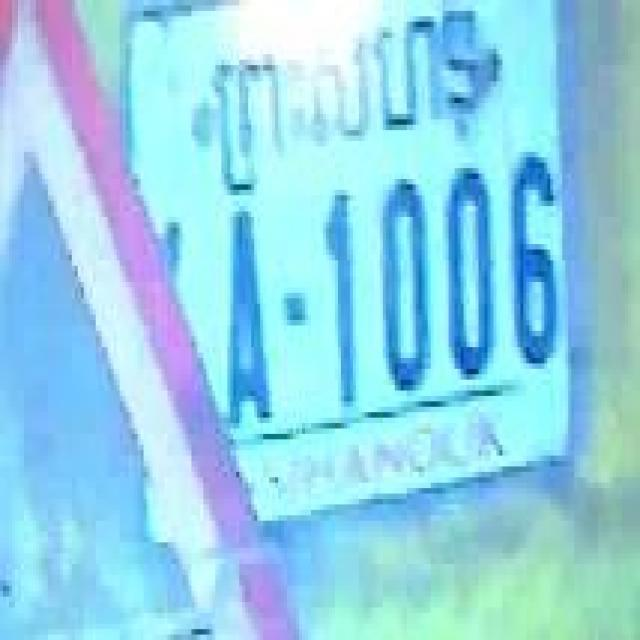Preah_Sihanouk: (212, 6, 476, 197)
